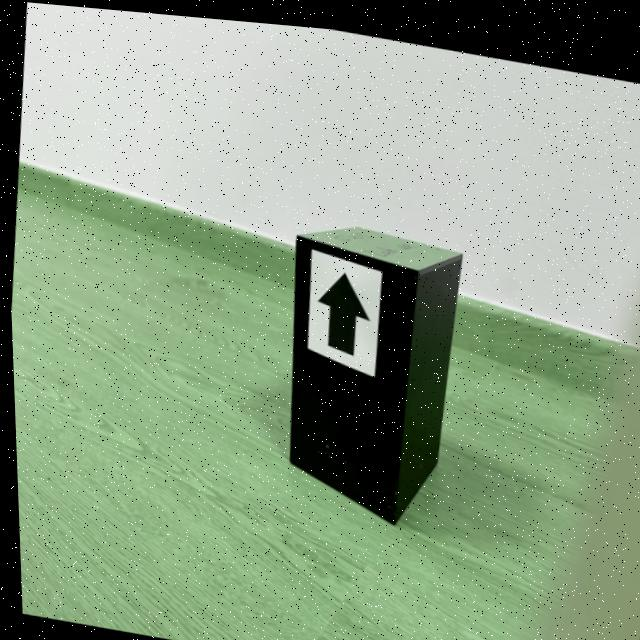UP: (314, 266, 367, 351)
